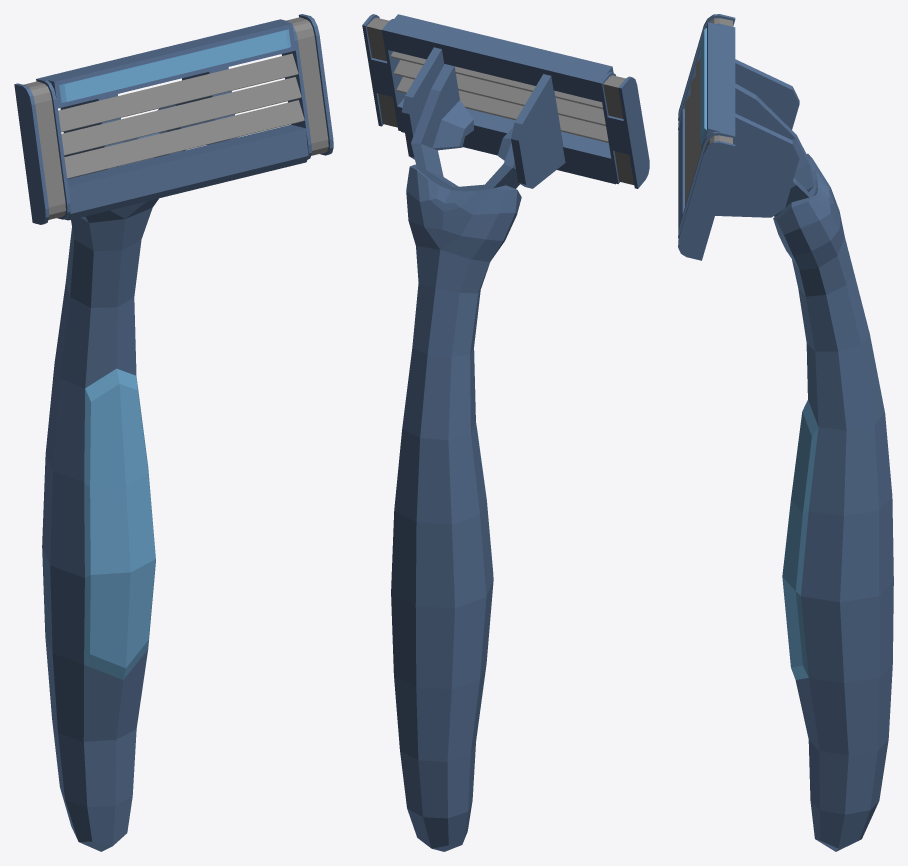
File: razor.glb
3 renders of one model, left to right at view 1: azimuth 30°, elevation 25°; view 2: azimuth 150°, elevation 25°; view 3: azimuth 270°, elevation 25°, orthographic. The views are drawn at different scales.
Parts seen in each view (by area): view 1: ShavingRazor; view 2: ShavingRazor; view 3: ShavingRazor.
Part boxes in pixels (x1,y1,x2,y2): ShavingRazor: [14, 14, 333, 851]; ShavingRazor: [362, 14, 649, 851]; ShavingRazor: [678, 14, 893, 851].
Size of the model in its own units: 0.6872 by 1.94 by 0.4872.
